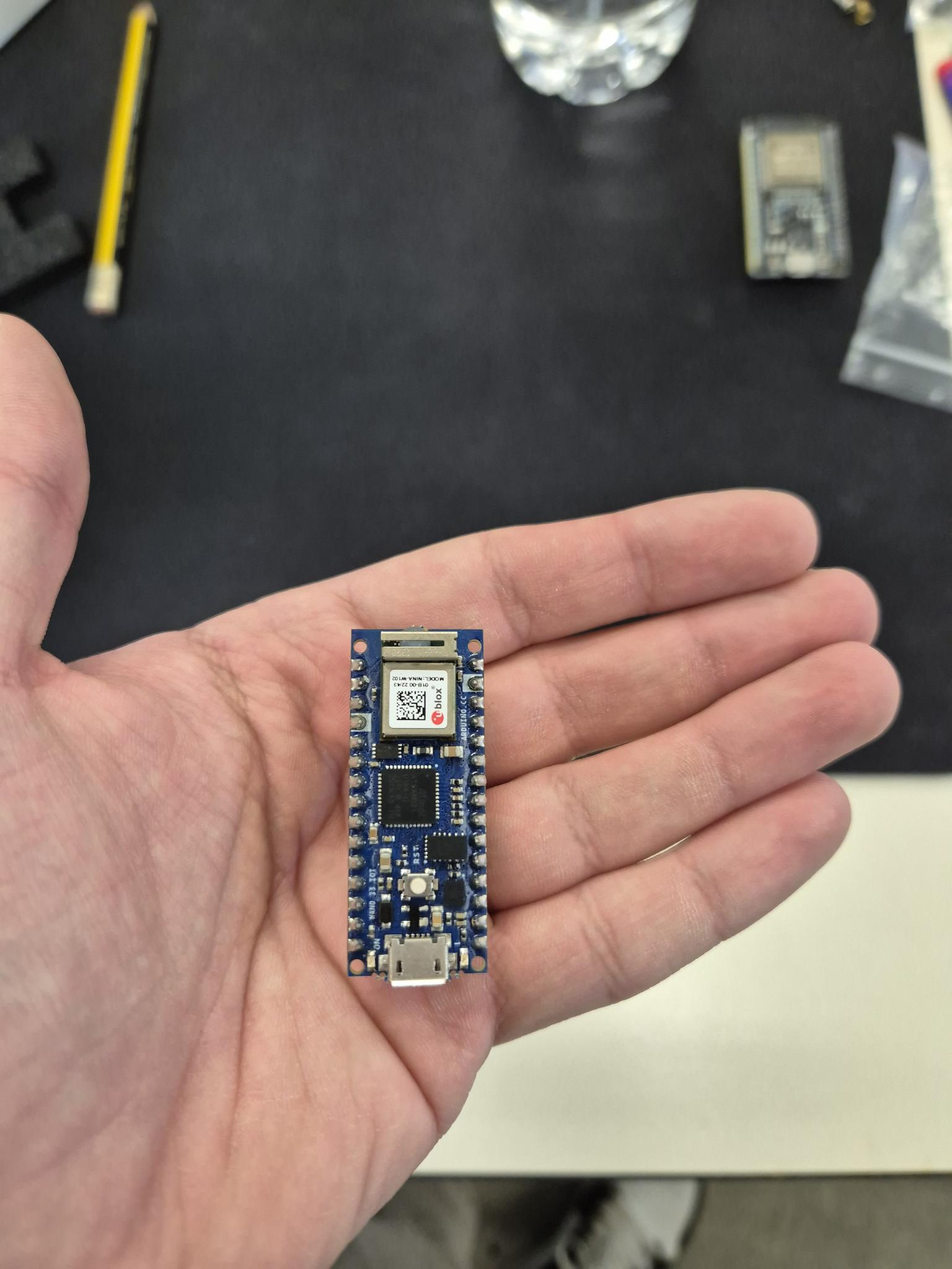arduino-nano-iot-33: (347, 625, 487, 980)
